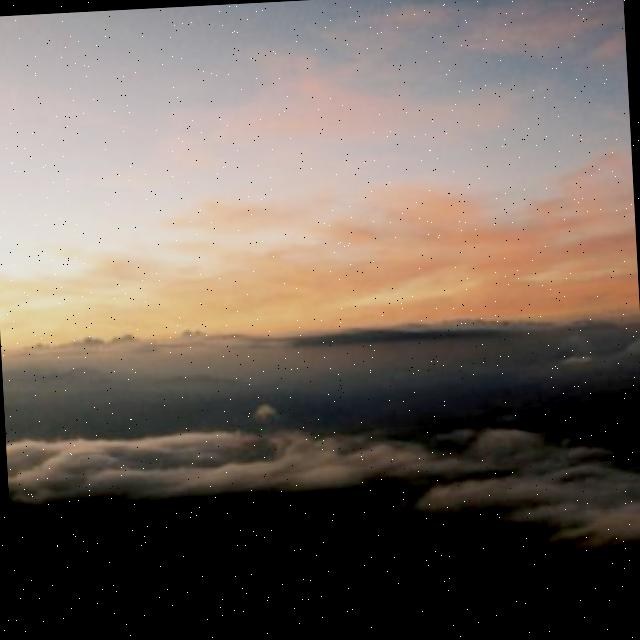Ci: (1, 105, 640, 624)
